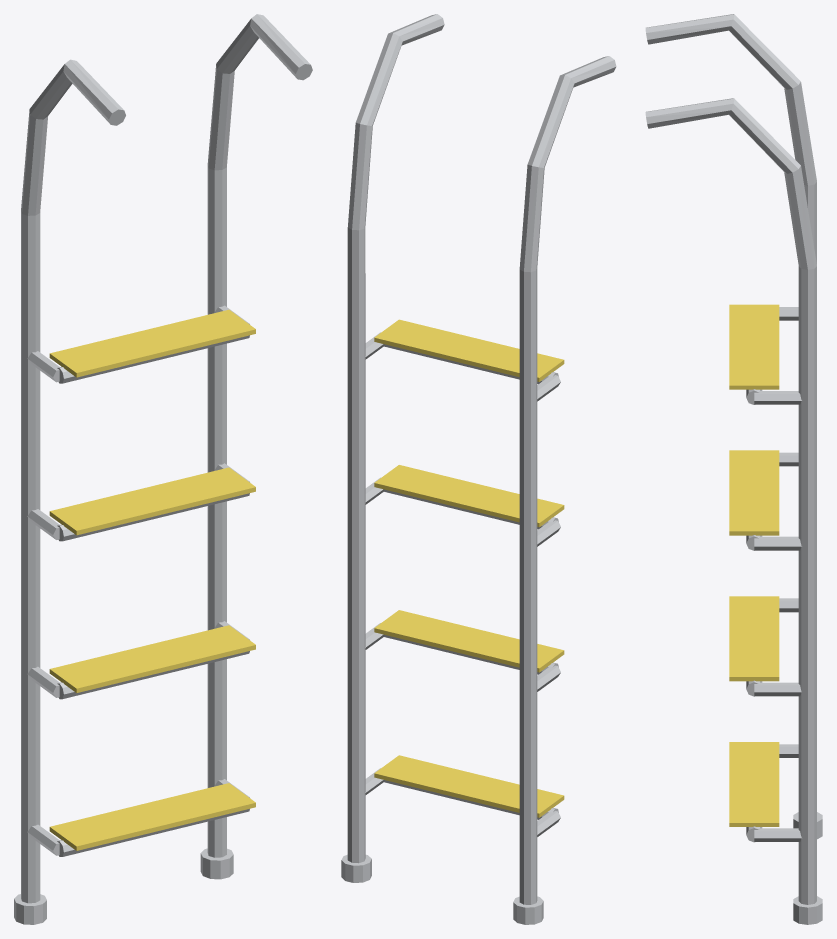
The model's file is public-swimming-baths-and-poolside-pool-ladder-42e7fe09__35247.glb.
The picture shows the model from 3 angles, left to right: view 1: azimuth 30°, elevation 25°; view 2: azimuth 150°, elevation 25°; view 3: azimuth 270°, elevation 25°; orthographic projection. The views are drawn at different scales.
Parts seen in each view (by area): view 1: pool-ladder; view 2: pool-ladder; view 3: pool-ladder.
Boxes of the visible parts, left/top/right/bottom form: pool-ladder: left=14, top=14, right=312, bottom=924; pool-ladder: left=341, top=14, right=616, bottom=924; pool-ladder: left=645, top=14, right=822, bottom=924.
Bounding box in the file's own units: 0.5999 × 2.36 × 0.4623.
